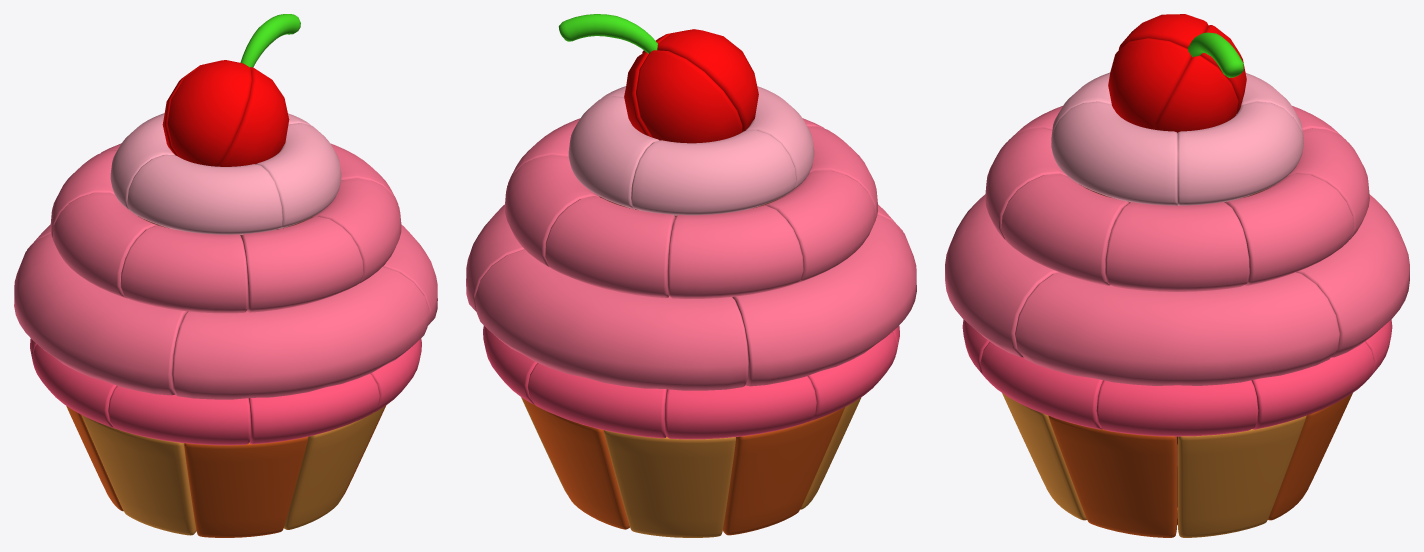
File: Cupcake.fbx
3 views of the same model, side by side, from view 1: azimuth 30°, elevation 25°; view 2: azimuth 150°, elevation 25°; view 3: azimuth 270°, elevation 25° (orthographic). The views are drawn at different scales.
Visible parts, largest first — view 1: Torus.018, Torus.017, Torus.002, Cylinder.025, Torus.014, Torus.005, Cylinder.024, Cube.081, Torus.034, Torus.003, Torus.032, Cylinder.026 (+11 smaller); view 2: Torus.019, Torus.017, Torus.001, Cylinder.022, Torus.013, Torus.008, Cylinder.023, Torus.031, Cube.082, Torus.003, Torus.033, Cylinder.021 (+12 smaller); view 3: Torus.020, Torus.009, Cylinder.019, Cylinder.020, Torus.007, Torus.040, Torus.011, Torus.015, Torus.018, Torus.019, Torus.035, Torus.010 (+14 smaller).
Part boxes in pixels (x1,y1,x2,y2): Torus.018: (172, 266, 429, 399); Torus.017: (14, 233, 187, 395); Torus.002: (127, 154, 282, 234); Cylinder.025: (184, 436, 308, 537); Torus.014: (120, 225, 248, 313); Torus.005: (241, 216, 363, 312); Cylinder.024: (81, 415, 196, 535); Cube.081: (167, 60, 252, 166); Torus.034: (108, 386, 250, 445); Torus.003: (52, 192, 156, 298); Torus.032: (249, 373, 379, 444); Cylinder.026: (284, 407, 384, 529); Torus.019: (474, 249, 748, 390); Torus.017: (732, 214, 916, 386); Torus.001: (631, 130, 796, 215); Cylinder.022: (603, 430, 735, 537); Torus.013: (667, 205, 803, 298); Torus.008: (545, 196, 675, 298); Cylinder.023: (723, 407, 844, 535); Torus.031: (664, 376, 816, 439); Cube.082: (636, 50, 742, 143); Torus.003: (764, 170, 875, 283); Torus.033: (527, 363, 666, 438); Cylinder.021: (523, 398, 629, 529); Torus.020: (1015, 272, 1339, 385); Torus.009: (1105, 202, 1249, 291); Cylinder.019: (1177, 415, 1306, 537); Cylinder.020: (1048, 415, 1177, 537); Torus.007: (1177, 101, 1303, 205); Torus.040: (1051, 101, 1177, 205); Torus.011: (1001, 173, 1129, 285); Torus.015: (1225, 173, 1353, 285); Torus.018: (945, 194, 1058, 357); Torus.019: (1296, 194, 1409, 357); Torus.035: (1096, 380, 1258, 436); Torus.010: (1251, 341, 1374, 429).
Size of the model in its own units: 6.48 by 7.43 by 6.48.
